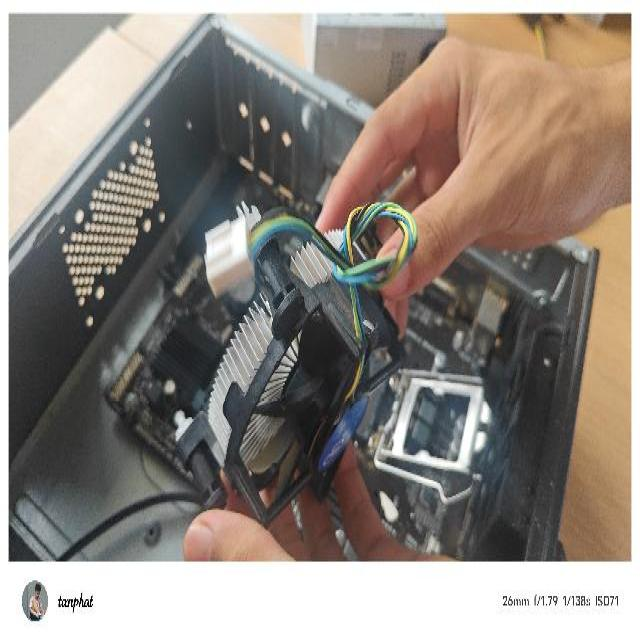CPU_Fan: (172, 197, 414, 528)
